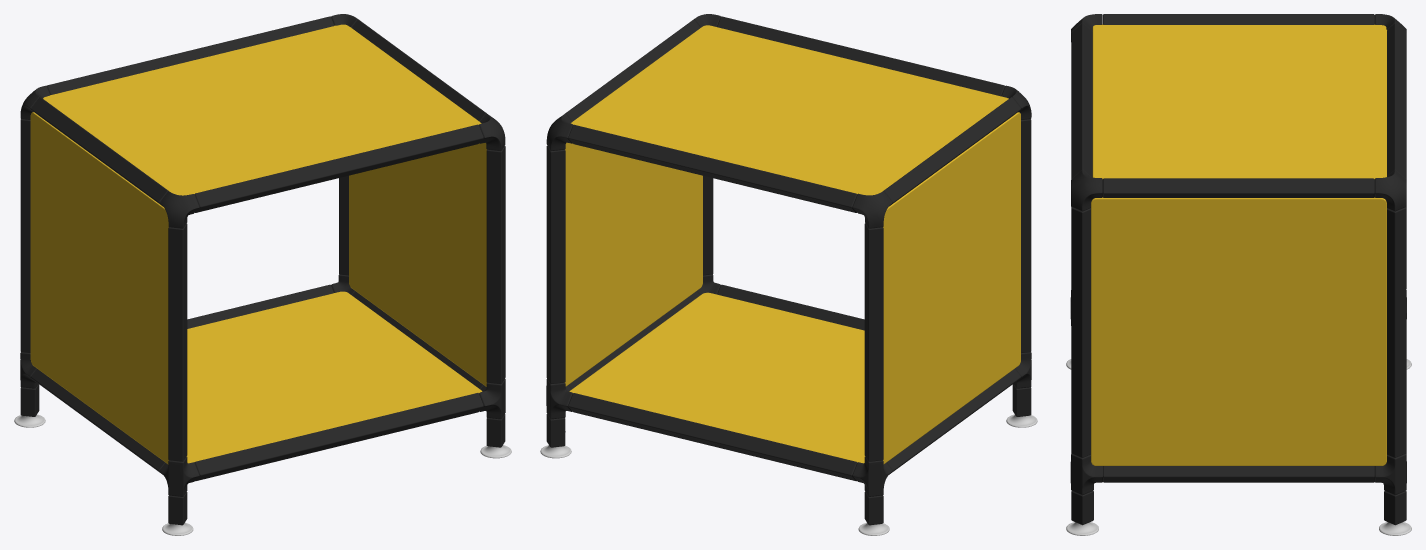
The picture shows the model from 3 angles, left to right: view 1: azimuth 30°, elevation 25°; view 2: azimuth 150°, elevation 25°; view 3: azimuth 270°, elevation 25°; orthographic projection. The views are drawn at different scales.
Visible parts, largest first — view 1: 420x329x330; view 2: 420x329x330; view 3: 420x329x330.
Boxes of the visible parts, box(x1,y1,x2,y2) form: 420x329x330: box(14, 14, 511, 535); 420x329x330: box(540, 14, 1037, 535); 420x329x330: box(1066, 14, 1411, 535).
Bounding box in the file's own units: 0.5099 × 0.4683 × 0.4183.
